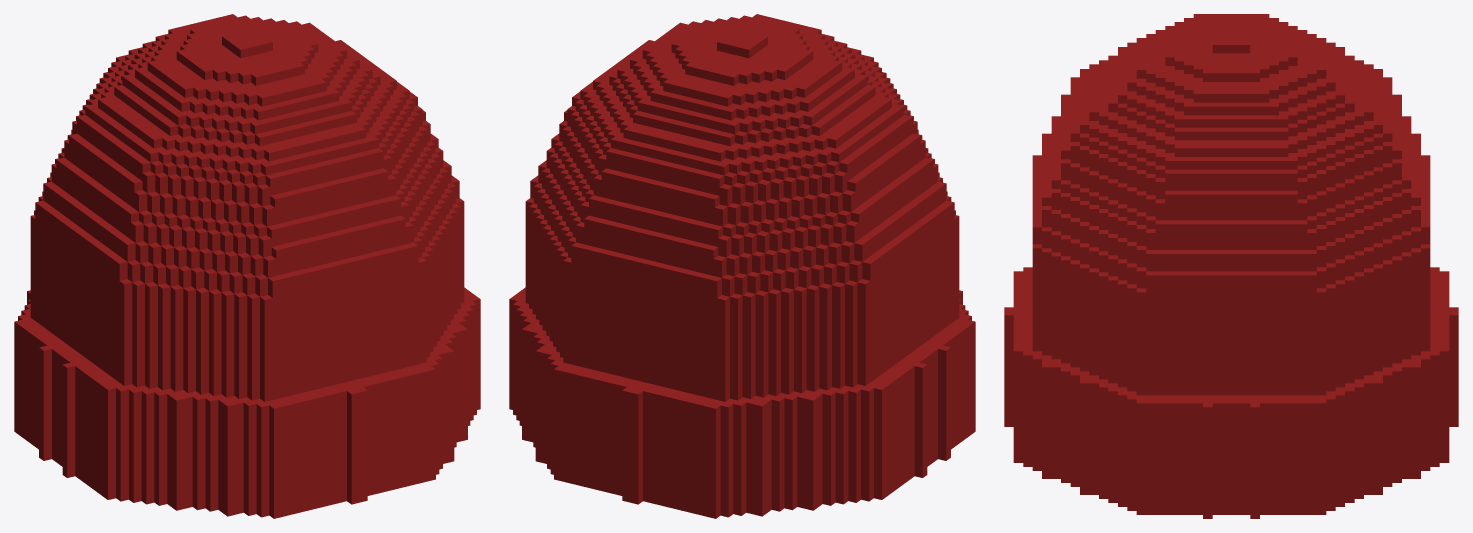
The model's file is hat_cotton.glb.
The picture shows the model from 3 angles, left to right: view 1: azimuth 30°, elevation 25°; view 2: azimuth 150°, elevation 25°; view 3: azimuth 270°, elevation 25°; orthographic projection.
Parts seen in each view (by area): view 1: hat_cotton:compound; view 2: hat_cotton:compound; view 3: hat_cotton:compound.
Part boxes in pixels (x1,y1,x2,y2): hat_cotton:compound: (14,14,480,518); hat_cotton:compound: (509,14,975,518); hat_cotton:compound: (1004,14,1458,518).
Size of the model in its own units: 0.192 by 0.18 by 0.192.
